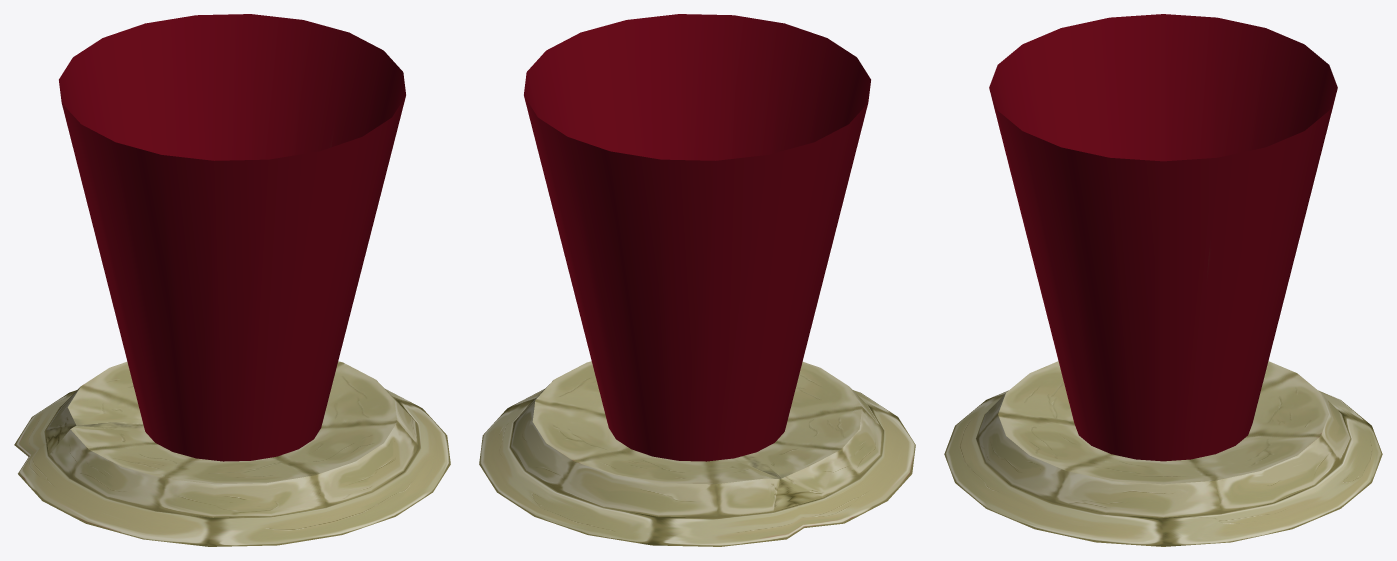
Rendered from SM_TeleporterCombined.fbx.
3 views of the same model, side by side, from view 1: azimuth 30°, elevation 25°; view 2: azimuth 150°, elevation 25°; view 3: azimuth 270°, elevation 25° (orthographic).
Parts seen in each view (by area): view 1: polySurface1, pCylinder2; view 2: polySurface1, pCylinder2; view 3: polySurface1, pCylinder2.
Boxes of the visible parts, box(x1,y1,x2,y2) form: polySurface1: box(59, 14, 405, 461); pCylinder2: box(14, 361, 450, 546); polySurface1: box(524, 14, 870, 461); pCylinder2: box(479, 361, 915, 546); polySurface1: box(989, 14, 1337, 461); pCylinder2: box(944, 361, 1382, 546).
Size of the model in its own units: 17.18 by 15.85 by 17.18.
